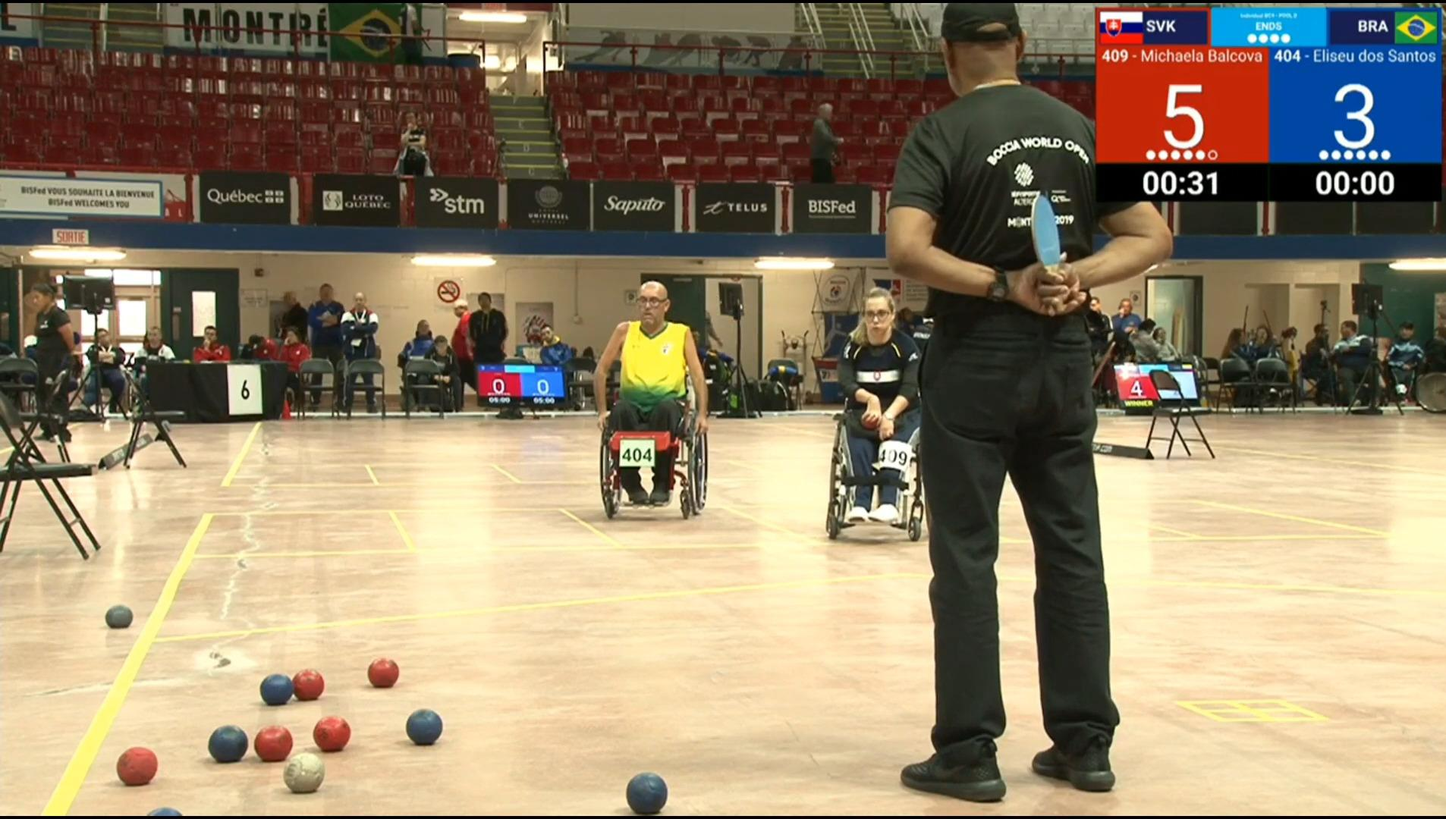blue_ball: (625, 771, 668, 816), (208, 727, 249, 764), (406, 708, 443, 748), (258, 672, 296, 708)
red_ball: (113, 745, 159, 785), (315, 715, 352, 755), (254, 726, 294, 762), (292, 668, 325, 701), (368, 659, 400, 688)
white_ball: (282, 750, 326, 796)
